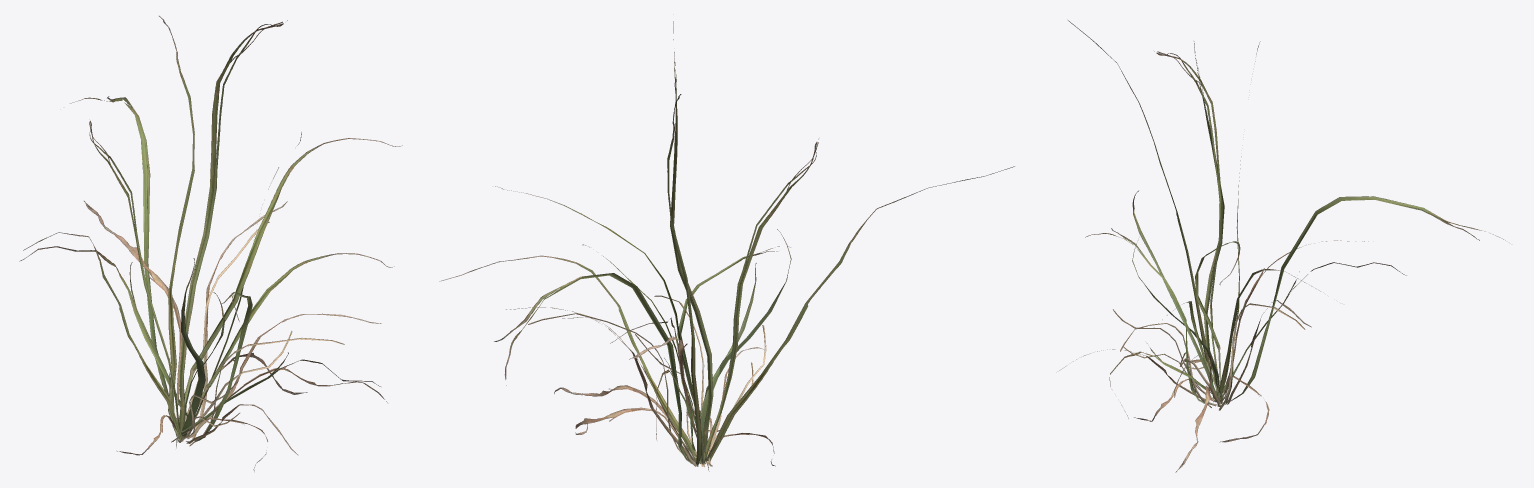
Rendered from grass_b.glb.
3 renders of one model, left to right at view 1: azimuth 30°, elevation 25°; view 2: azimuth 150°, elevation 25°; view 3: azimuth 270°, elevation 25°, orthographic. The views are drawn at different scales.
Parts seen in each view (by area): view 1: Forest_grass_b; view 2: Forest_grass_b; view 3: Forest_grass_b.
Boxes of the visible parts, x1,y1,x2,y2 form: Forest_grass_b: (19,16,402,471); Forest_grass_b: (439,21,1014,471); Forest_grass_b: (1059,20,1505,472).
Bounding box in the file's own units: 0.2617 × 0.2316 × 0.2495.
Materials: 1 (1 with a texture image).
